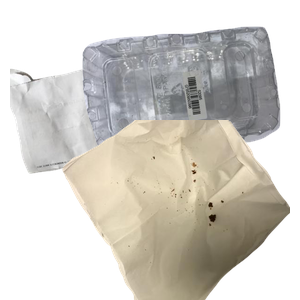glass: (115, 120, 300, 300)
paper: (10, 39, 236, 205)
plastic: (80, 24, 300, 172)
trash: (60, 120, 300, 300)
